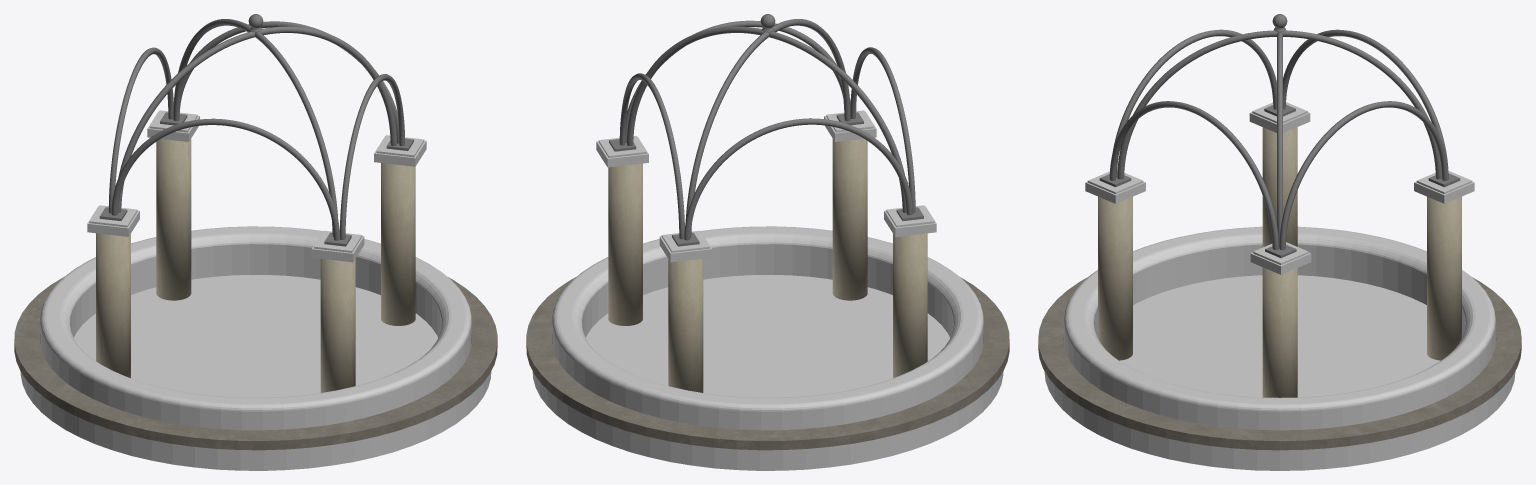
The model's file is planter_center7.fbx.
3 views of the same model, side by side, from view 1: azimuth 30°, elevation 25°; view 2: azimuth 150°, elevation 25°; view 3: azimuth 270°, elevation 25° (orthographic).
Visible parts, largest first — view 1: PlanterCenterBase, CenterBush, TopPart, Pole1, Pole2, Pole0, Pole3, Cube.001, Cube, Cube.003, Cube.002; view 2: PlanterCenterBase, CenterBush, TopPart, Pole3, Pole2, Pole0, Pole1, Cube.002, Cube, Cube.003, Cube.001; view 3: PlanterCenterBase, CenterBush, TopPart, Pole3, Pole1, Pole2, Pole0, Cube.003, Cube.002, Cube.001, Cube.
Part boxes in pixels (x1,y1,x2,y2): PlanterCenterBase: (14, 275, 497, 470); CenterBush: (40, 226, 471, 430); TopPart: (108, 14, 404, 240); Pole1: (156, 139, 191, 300); Pole2: (381, 163, 415, 325); Pole0: (96, 233, 130, 377); Pole3: (320, 259, 355, 392); Cube.001: (311, 230, 364, 262); Cube: (87, 205, 139, 236); Cube.003: (374, 135, 426, 166); Cube.002: (147, 110, 199, 141); PlanterCenterBase: (526, 275, 1009, 470); CenterBush: (552, 226, 983, 430); TopPart: (619, 14, 915, 240); Pole3: (832, 139, 867, 300); Pole2: (608, 163, 642, 325); Pole0: (893, 233, 927, 377); Pole1: (668, 259, 703, 392); Cube.002: (659, 230, 712, 262); Cube: (884, 205, 936, 236); Cube.003: (596, 136, 648, 167); Cube.001: (824, 110, 876, 141); PlanterCenterBase: (1038, 275, 1521, 470); CenterBush: (1064, 226, 1495, 430); TopPart: (1109, 14, 1448, 249); Pole3: (1098, 196, 1132, 360); Pole1: (1427, 196, 1461, 360); Pole2: (1262, 267, 1297, 397); Pole0: (1262, 127, 1297, 247); Cube.003: (1250, 242, 1311, 274); Cube.002: (1414, 170, 1474, 203); Cube.001: (1085, 170, 1145, 203); Cube: (1249, 102, 1310, 132).
Bounding box in the file's own units: 227 × 185 × 227.
